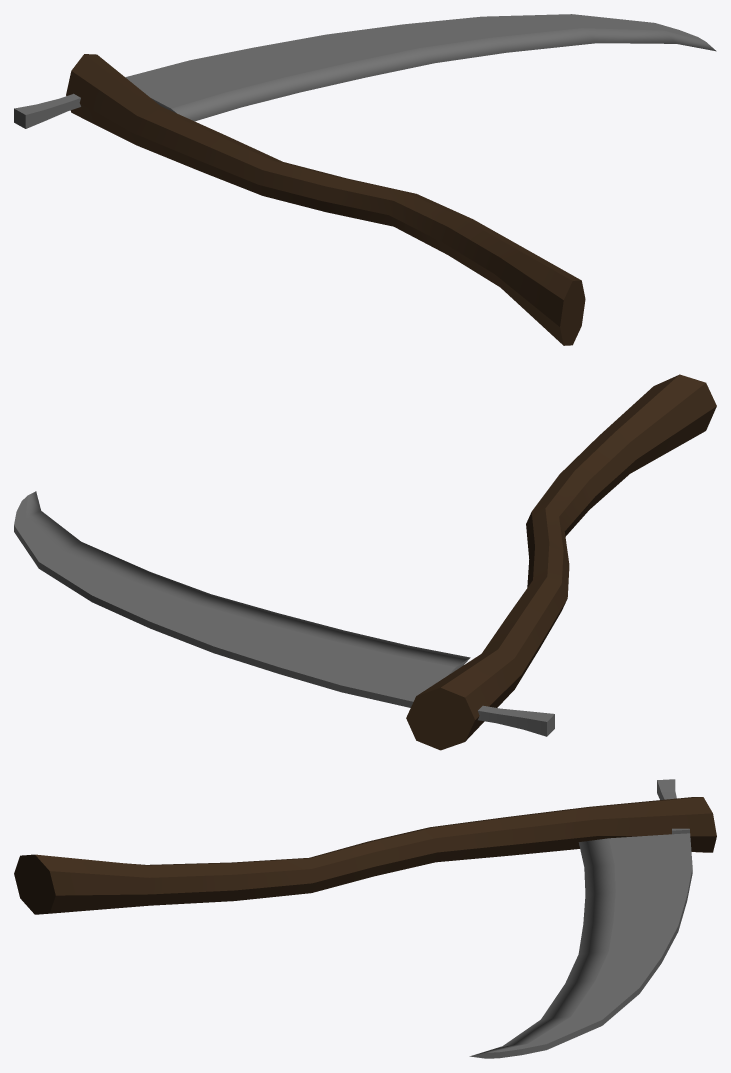
The model's file is low_poly_scythe.fbx.
3 renders of one model, top to bottom at view 1: azimuth 30°, elevation 25°; view 2: azimuth 150°, elevation 25°; view 3: azimuth 270°, elevation 25°, orthographic. The views are drawn at different scales.
Parts seen in each view (by area): view 1: scyth; view 2: scyth; view 3: scyth.
Part boxes in pixels (box(x1,y1,x2,y2)): scyth: box(14, 14, 716, 345); scyth: box(14, 374, 716, 750); scyth: box(14, 779, 716, 1058).
Size of the model in its own units: 19.99 by 2.08 by 21.94.
